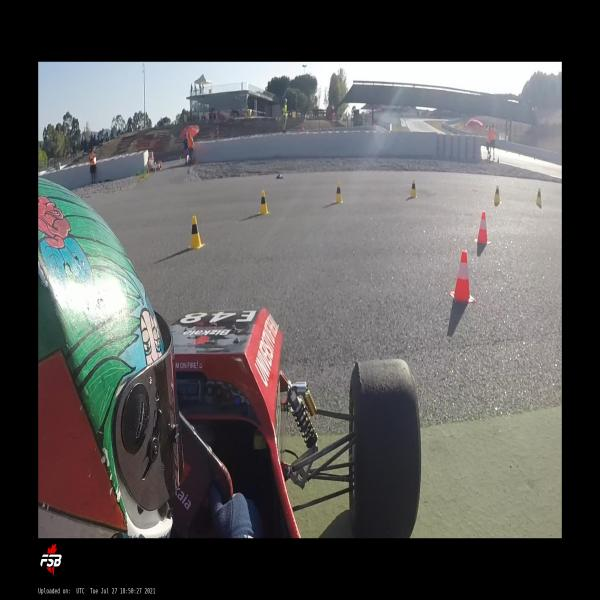orange_cone: (449, 248, 475, 302), (474, 211, 491, 244)
yellow_cone: (188, 216, 205, 249), (258, 189, 269, 214), (334, 181, 344, 203), (492, 183, 502, 204), (409, 177, 417, 198), (535, 188, 543, 206)
